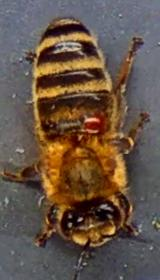varroa_mite: (74, 107, 106, 134)
